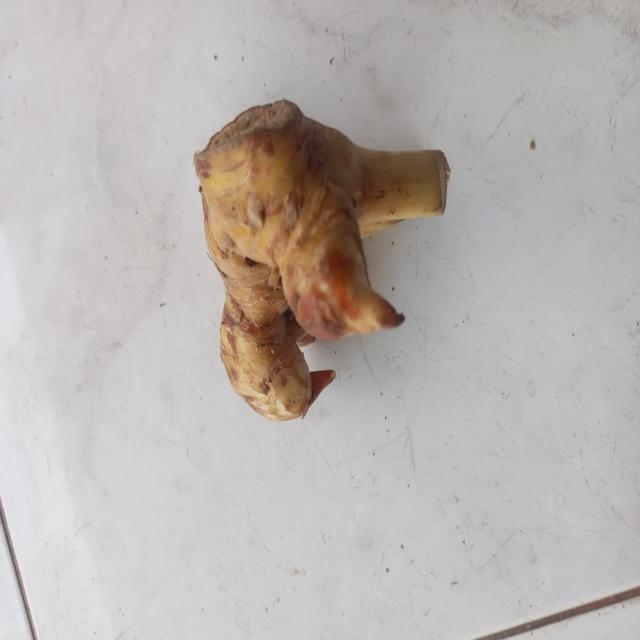ginger: (191, 100, 439, 400)
